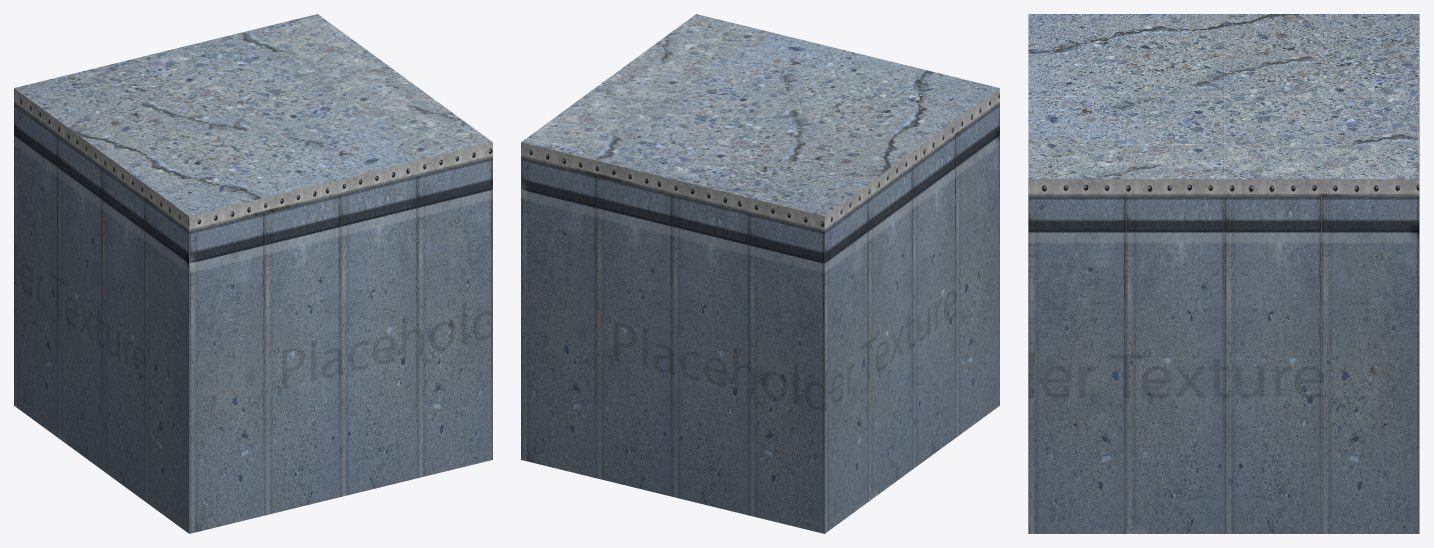
Rendered from Building_Middle_Test.dae.
The picture shows the model from 3 angles, left to right: view 1: azimuth 30°, elevation 25°; view 2: azimuth 150°, elevation 25°; view 3: azimuth 270°, elevation 25°; orthographic projection. The views are drawn at different scales.
Visible parts, largest first — view 1: Building_Middle; view 2: Building_Middle; view 3: Building_Middle.
Part boxes in pixels (<box>): Building_Middle: <box>14,14,492,533</box>; Building_Middle: <box>521,14,999,533</box>; Building_Middle: <box>1028,14,1419,533</box>.
Size of the model in its own units: 45.04 by 45.04 by 45.04.
